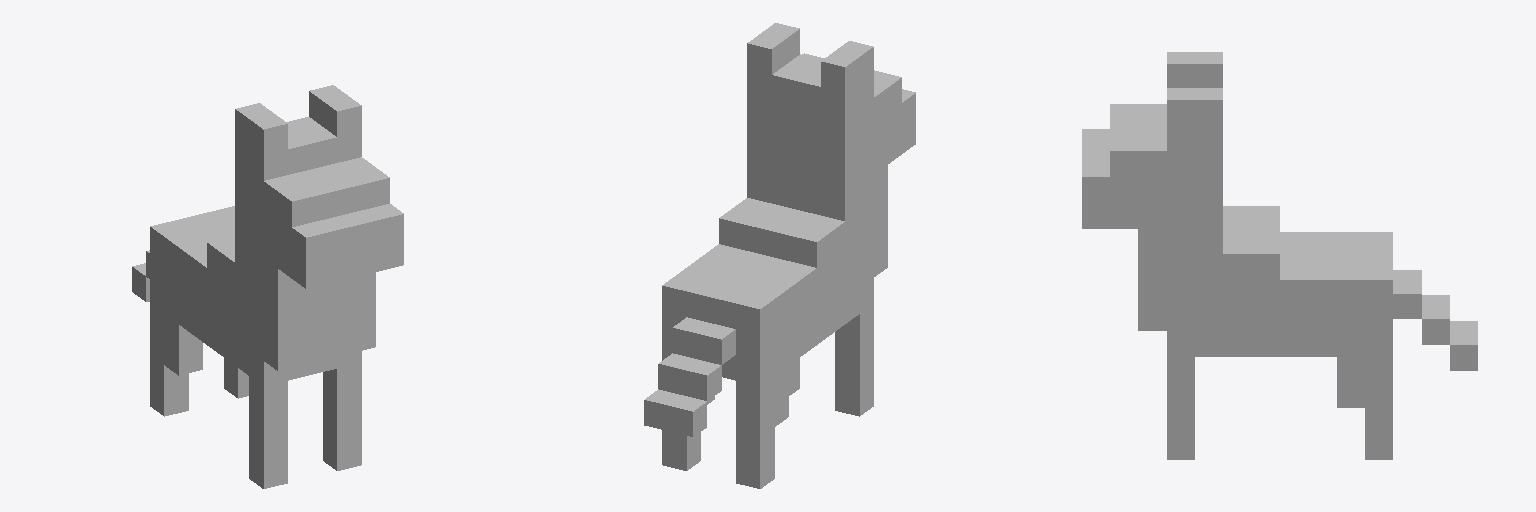
File: chr_dog.obj
3 renders of one model, left to right at view 1: azimuth 30°, elevation 25°; view 2: azimuth 150°, elevation 25°; view 3: azimuth 270°, elevation 25°, orthographic.
Size of the model in its own units: 4 by 14 by 14.